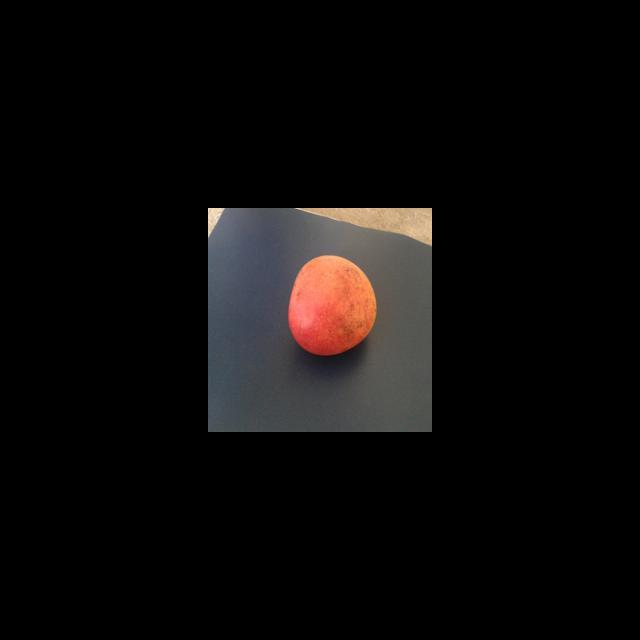Mango: (287, 254, 377, 356)
